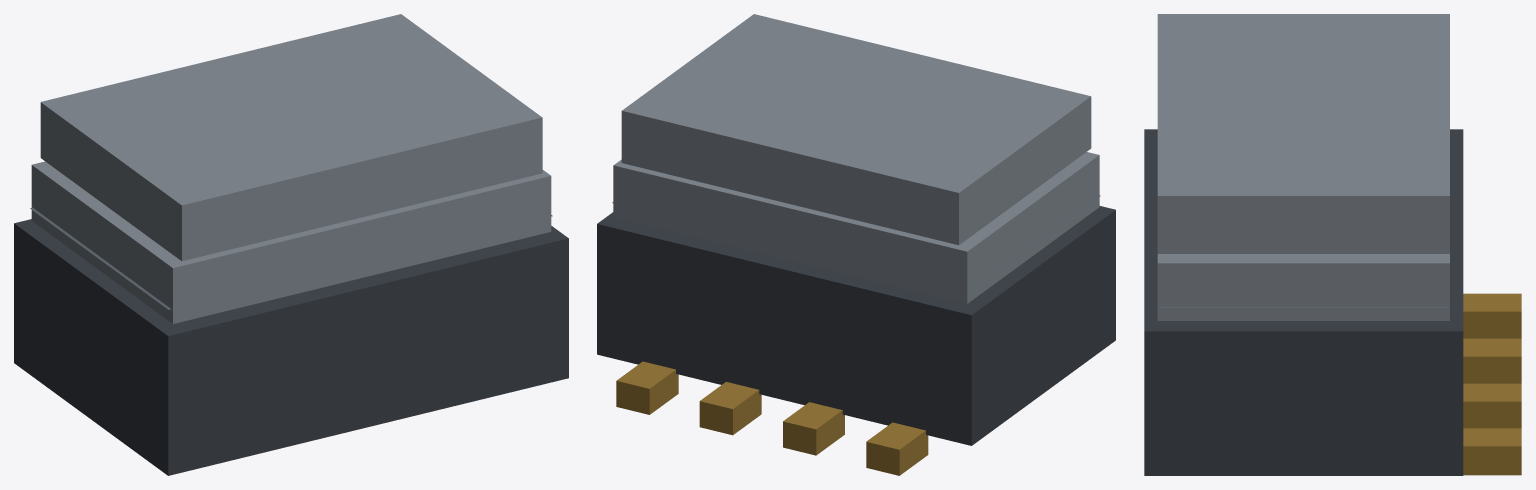
Rendered from droid-dura-plating-mk-2.lod.glb.
3 renders of one model, left to right at view 1: azimuth 30°, elevation 25°; view 2: azimuth 150°, elevation 25°; view 3: azimuth 270°, elevation 25°, orthographic. The views are drawn at different scales.
Visible parts, largest first — view 1: m; view 2: m; view 3: m.
Part boxes in pixels (x1=…): m: x1=14, y1=14, x2=568, y2=475; m: x1=597, y1=14, x2=1115, y2=475; m: x1=1144, y1=14, x2=1521, y2=475.
Size of the model in its own units: 0.1 by 0.0678 by 0.0789.
